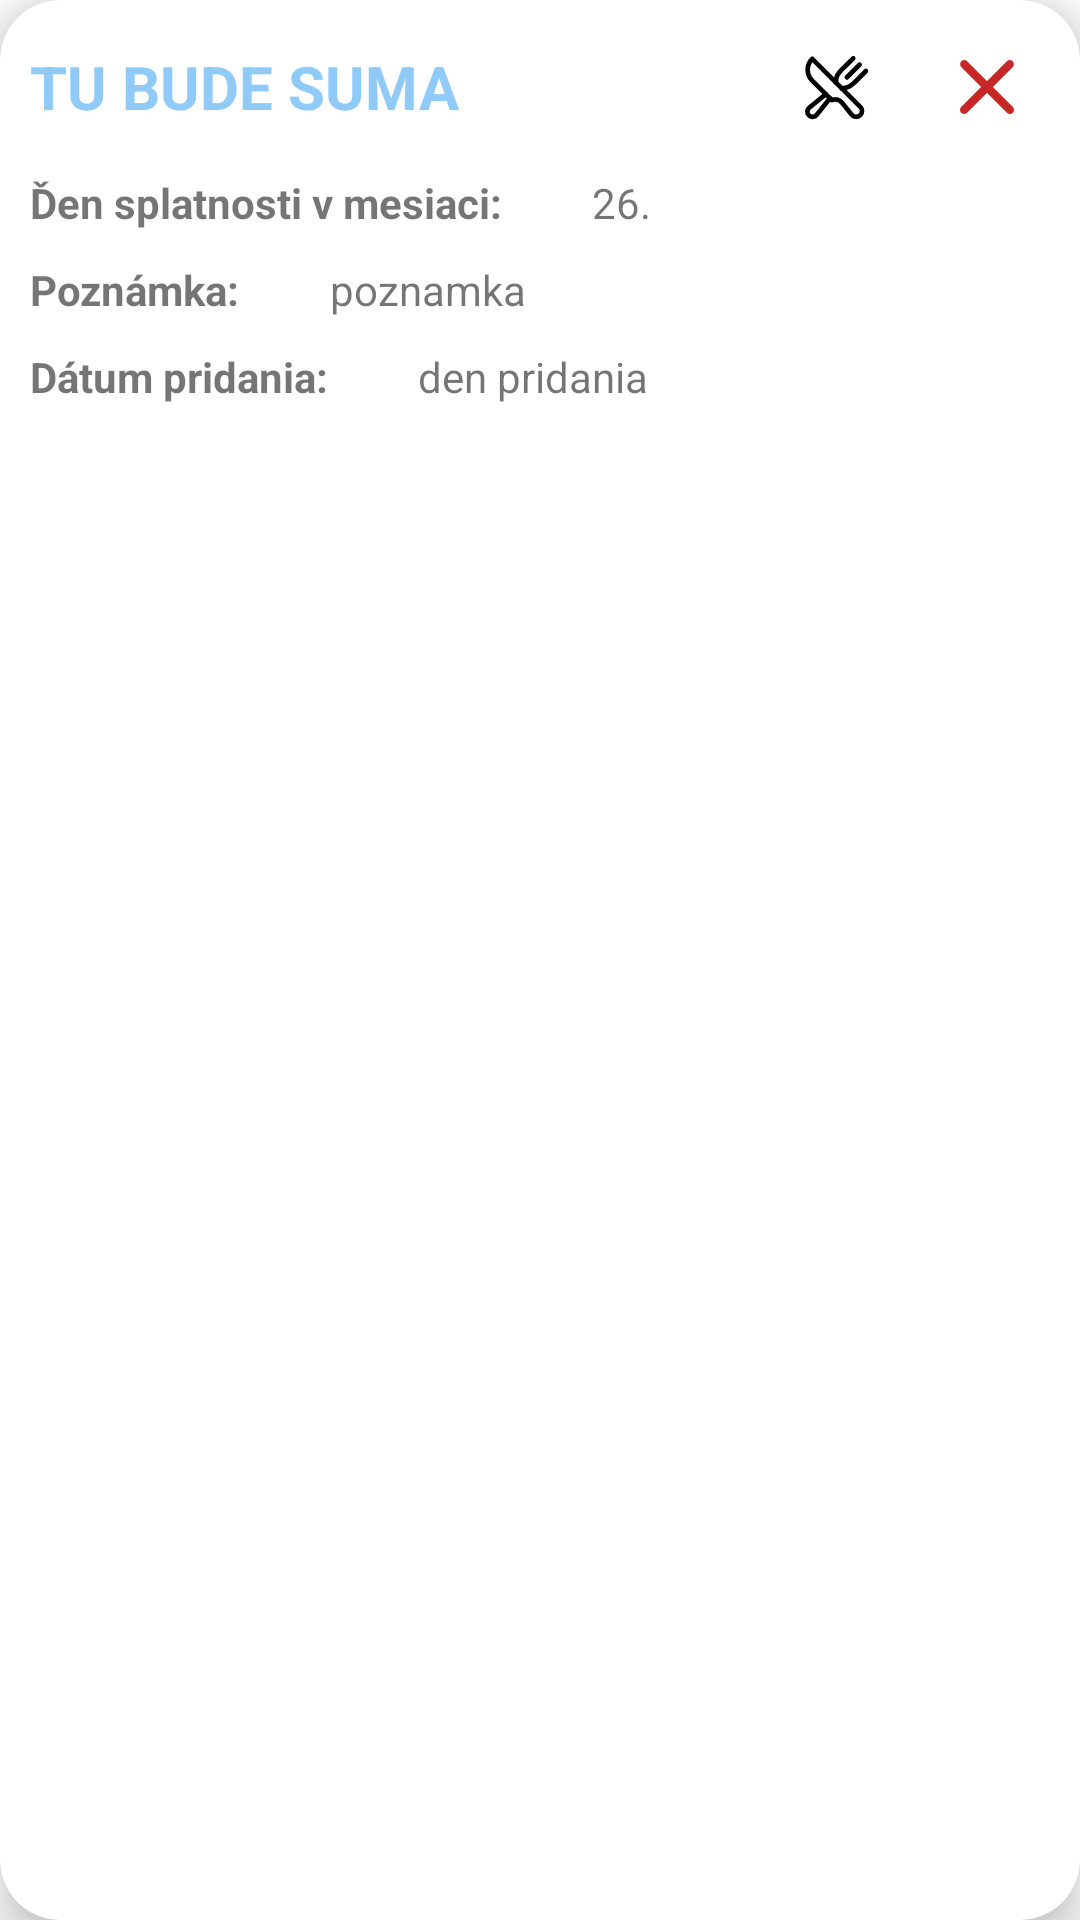

Named icons in this screenshot (1080 x 1920) and their bounding boxes, (x1, y1, x2, y2):
delete smaller: (960, 60, 1014, 114)
food: (805, 56, 869, 120)
